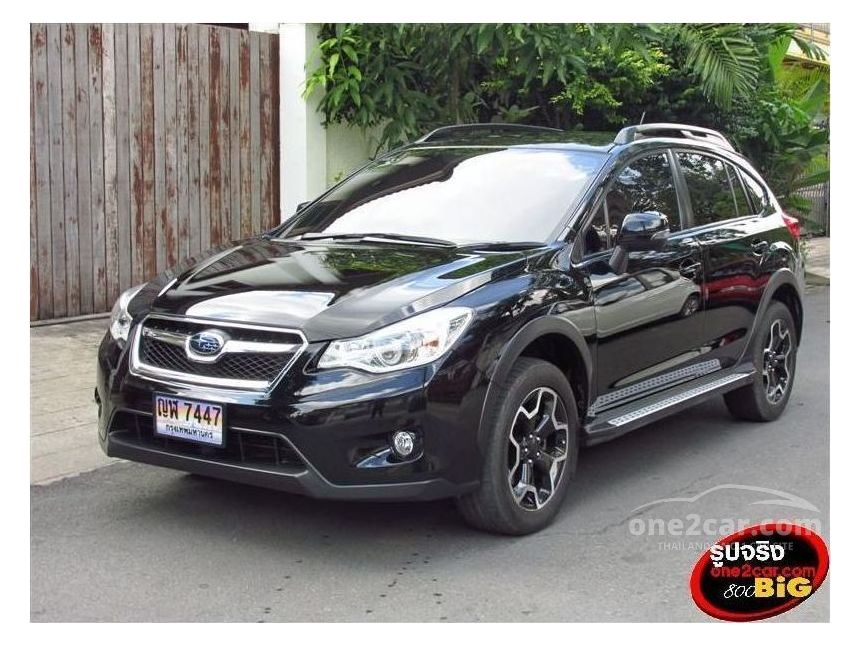pickup: (95, 123, 801, 531)
